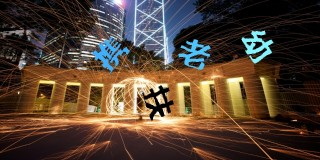幼: (239, 28, 274, 64)
扶: (142, 85, 174, 122)
携: (92, 36, 131, 75)
老: (177, 35, 211, 72)
